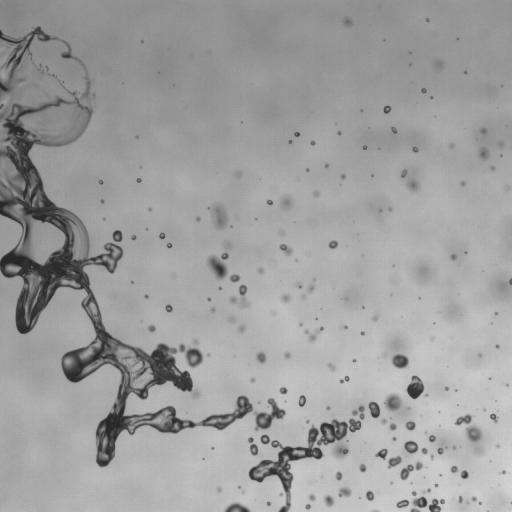droplet: (0, 26, 56, 100), (454, 414, 481, 441), (206, 252, 228, 280), (406, 375, 427, 399), (230, 284, 250, 308), (210, 203, 228, 229), (383, 392, 401, 410), (304, 327, 323, 341), (391, 353, 408, 368), (404, 440, 418, 455), (368, 401, 380, 418), (280, 195, 292, 209), (387, 456, 401, 468), (478, 147, 489, 160), (407, 180, 420, 191), (279, 244, 292, 255), (338, 486, 351, 497), (375, 448, 387, 459), (256, 352, 266, 363), (324, 495, 334, 506), (405, 421, 415, 430), (366, 490, 374, 501), (328, 240, 337, 249), (281, 294, 290, 303), (229, 274, 239, 282), (298, 395, 305, 406), (435, 60, 443, 69), (490, 413, 498, 422), (460, 470, 468, 479), (344, 18, 352, 26), (224, 241, 231, 249), (307, 285, 314, 293), (165, 304, 172, 312), (279, 387, 287, 394), (359, 464, 366, 472), (383, 106, 390, 113), (148, 325, 155, 332), (238, 325, 245, 332), (328, 363, 335, 370), (389, 423, 396, 430), (437, 447, 444, 454), (450, 466, 457, 473), (308, 493, 315, 500), (401, 169, 407, 177), (336, 472, 342, 480), (228, 316, 235, 322), (429, 435, 435, 442), (421, 447, 427, 454), (372, 315, 378, 321), (284, 352, 290, 358), (381, 418, 387, 424), (40, 120, 46, 125), (391, 127, 396, 133), (412, 147, 418, 152), (235, 172, 241, 177), (313, 191, 319, 196), (451, 254, 456, 260), (476, 448, 482, 453), (421, 88, 426, 93), (481, 128, 486, 133), (159, 233, 164, 238), (258, 268, 263, 273), (250, 377, 255, 382), (216, 487, 221, 492), (471, 496, 476, 501), (305, 504, 310, 509), (266, 200, 272, 204), (458, 497, 462, 503), (294, 132, 299, 136), (310, 141, 315, 145), (136, 178, 141, 182), (166, 243, 171, 247), (297, 283, 301, 288), (211, 307, 215, 312), (342, 325, 347, 329), (430, 454, 434, 459), (500, 470, 505, 474), (499, 142, 503, 146), (341, 174, 345, 178), (196, 217, 200, 221), (279, 230, 283, 234), (131, 235, 135, 239), (144, 294, 148, 298), (301, 294, 305, 298), (360, 331, 364, 335), (326, 406, 330, 410), (392, 437, 396, 441), (460, 182, 465, 185), (338, 131, 341, 135), (491, 166, 494, 170), (99, 180, 103, 183), (271, 311, 274, 315), (496, 344, 499, 348), (352, 359, 356, 362), (445, 386, 448, 390), (238, 485, 241, 489), (434, 484, 438, 487), (450, 144, 453, 147), (363, 146, 366, 149), (101, 199, 104, 202), (207, 298, 210, 301), (267, 502, 270, 505), (289, 140, 291, 143), (306, 169, 309, 171), (218, 287, 221, 289), (299, 323, 302, 325), (207, 353, 209, 356), (306, 420, 309, 422), (496, 445, 499, 447), (241, 491, 244, 493), (478, 502, 481, 504), (464, 71, 466, 73), (48, 73, 50, 75), (53, 75, 55, 77), (59, 81, 61, 83), (389, 208, 391, 210), (431, 338, 433, 340), (453, 446, 455, 448)
ligament: (0, 76, 281, 464), (248, 405, 364, 511), (396, 491, 444, 511), (61, 40, 83, 65), (399, 461, 423, 479), (224, 502, 250, 511), (248, 437, 259, 455), (339, 376, 349, 383), (423, 489, 430, 493), (371, 509, 379, 511), (509, 278, 511, 285)
